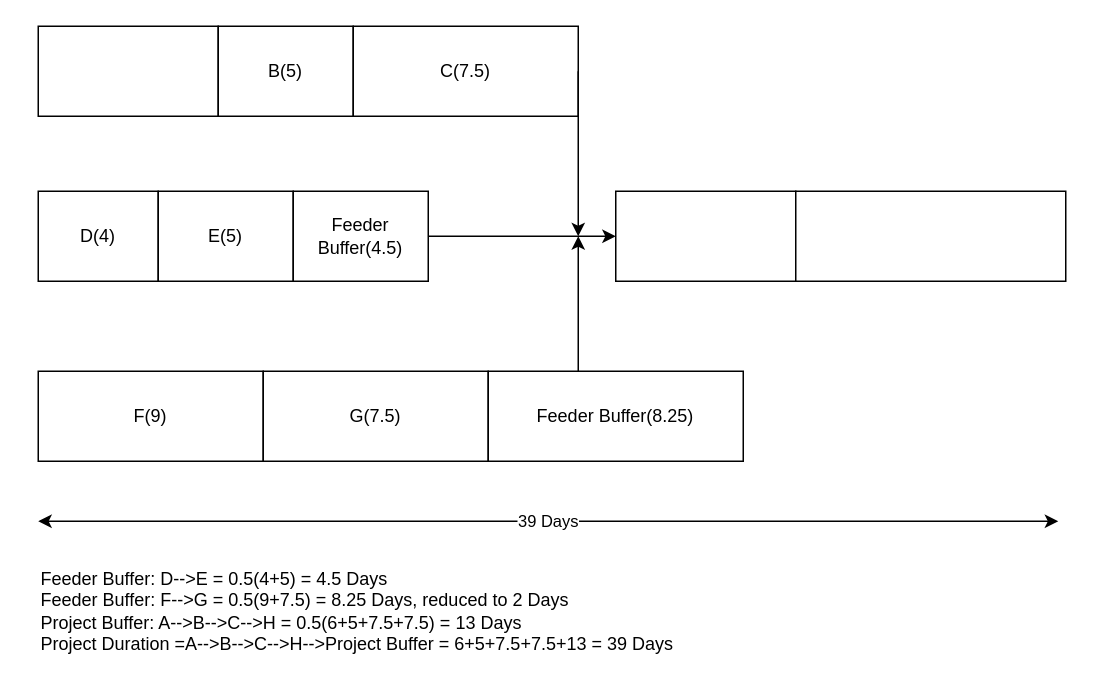
Some shapes in this 1098 by 683 pixel diagram are drawn without their labels. Here are the shapes that lost their labels. From the top down, the box of each, then its label:
(37, 25, 218, 116): A(6)
(614, 190, 796, 281): H(7.5)
(794, 190, 1066, 281): Project Buffer(13)
